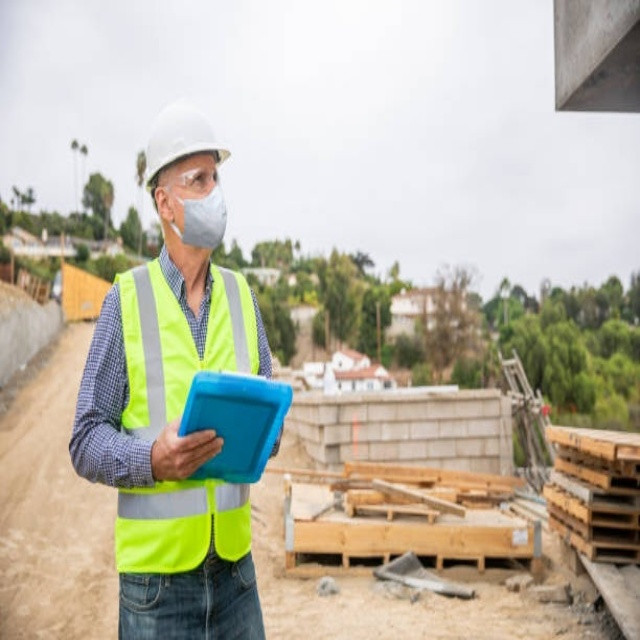Gafas: (159, 167, 219, 193)
Mascara: (167, 181, 227, 248)
Sin_guantes: (154, 414, 225, 483)
